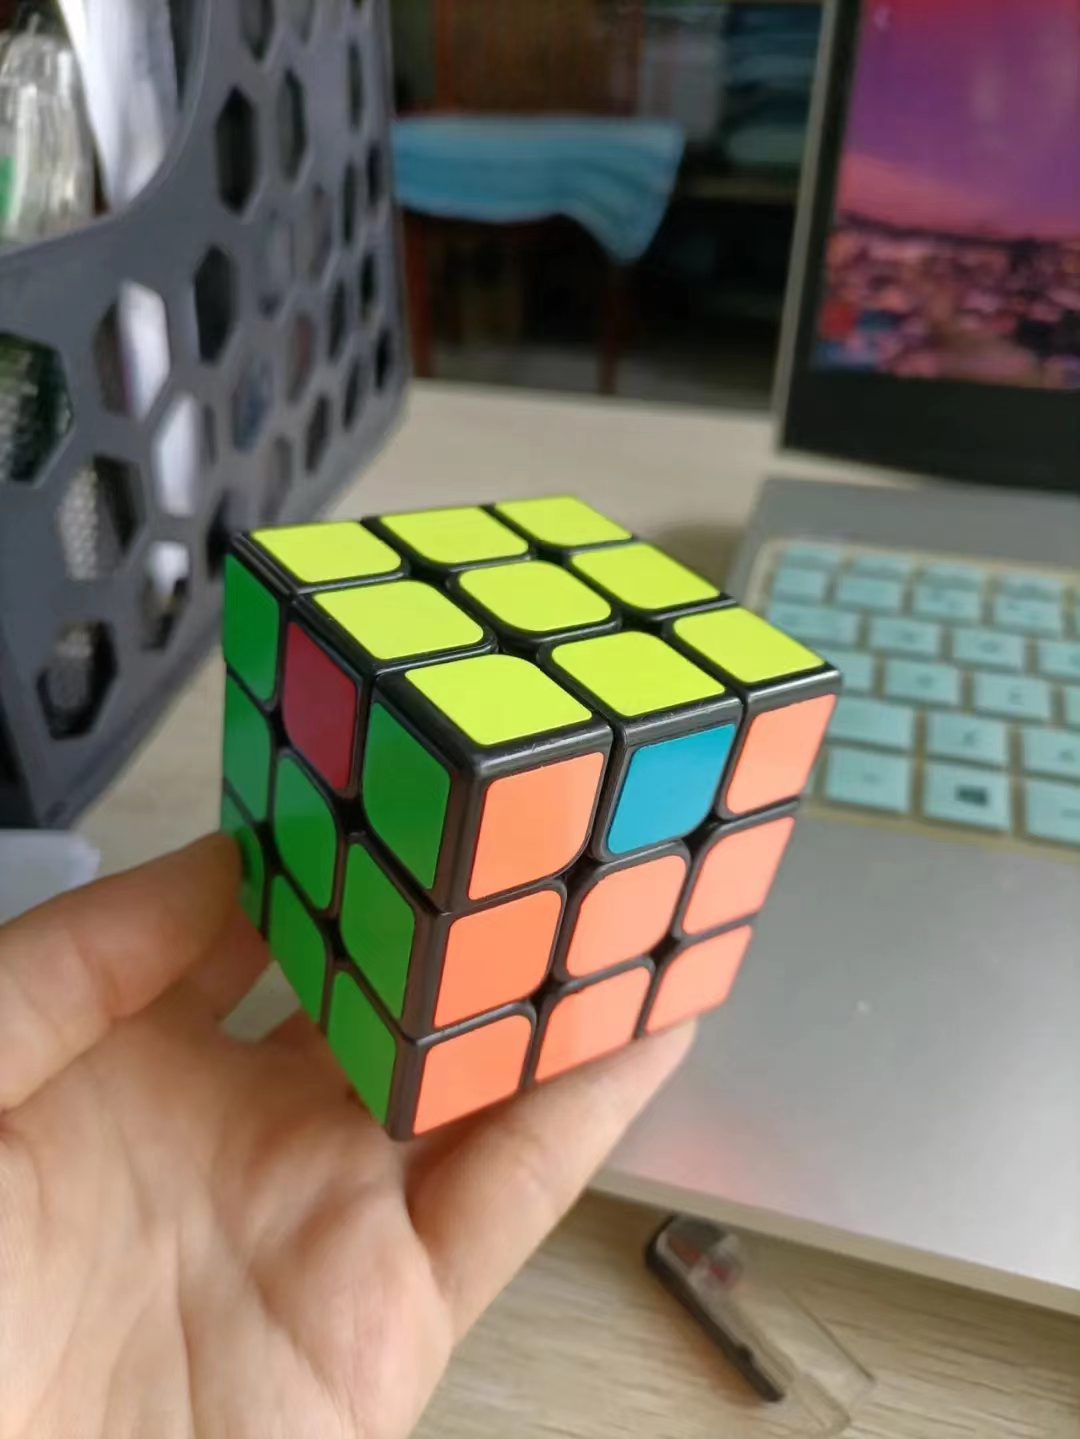cube: (208, 490, 847, 1146)
